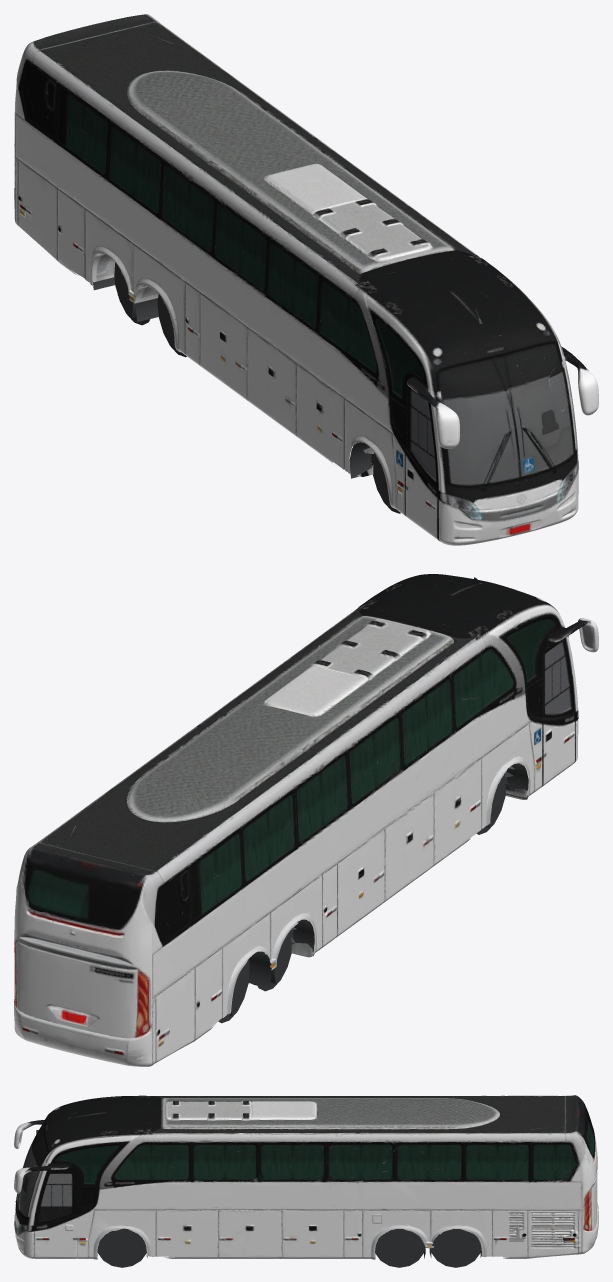
File: rodoviario_3e.glb
The picture shows the model from 3 angles, top to bottom: view 1: azimuth 30°, elevation 25°; view 2: azimuth 150°, elevation 25°; view 3: azimuth 270°, elevation 25°; orthographic projection. The views are drawn at different scales.
Parts seen in each view (by area): view 1: carroceria, porta_frente, chassi; view 2: carroceria, porta_frente, chassi; view 3: carroceria, chassi, carroceria_dentro.
Boxes of the visible parts, x1=… form: carroceria: x1=14, y1=14, x2=598, y2=545; porta_frente: x1=404, y1=383, x2=447, y2=538; chassi: x1=93, y1=262, x2=400, y2=513; carroceria: x1=14, y1=574, x2=598, y2=1066; porta_frente: x1=541, y1=636, x2=575, y2=786; chassi: x1=218, y1=636, x2=568, y2=1023; carroceria: x1=14, y1=1095, x2=598, y2=1259; chassi: x1=36, y1=1130, x2=481, y2=1267; carroceria_dentro: x1=15, y1=1098, x2=575, y2=1256.
Size of the model in its own units: 2.97 by 3.94 by 14.5.
2 materials, 1 textured.
